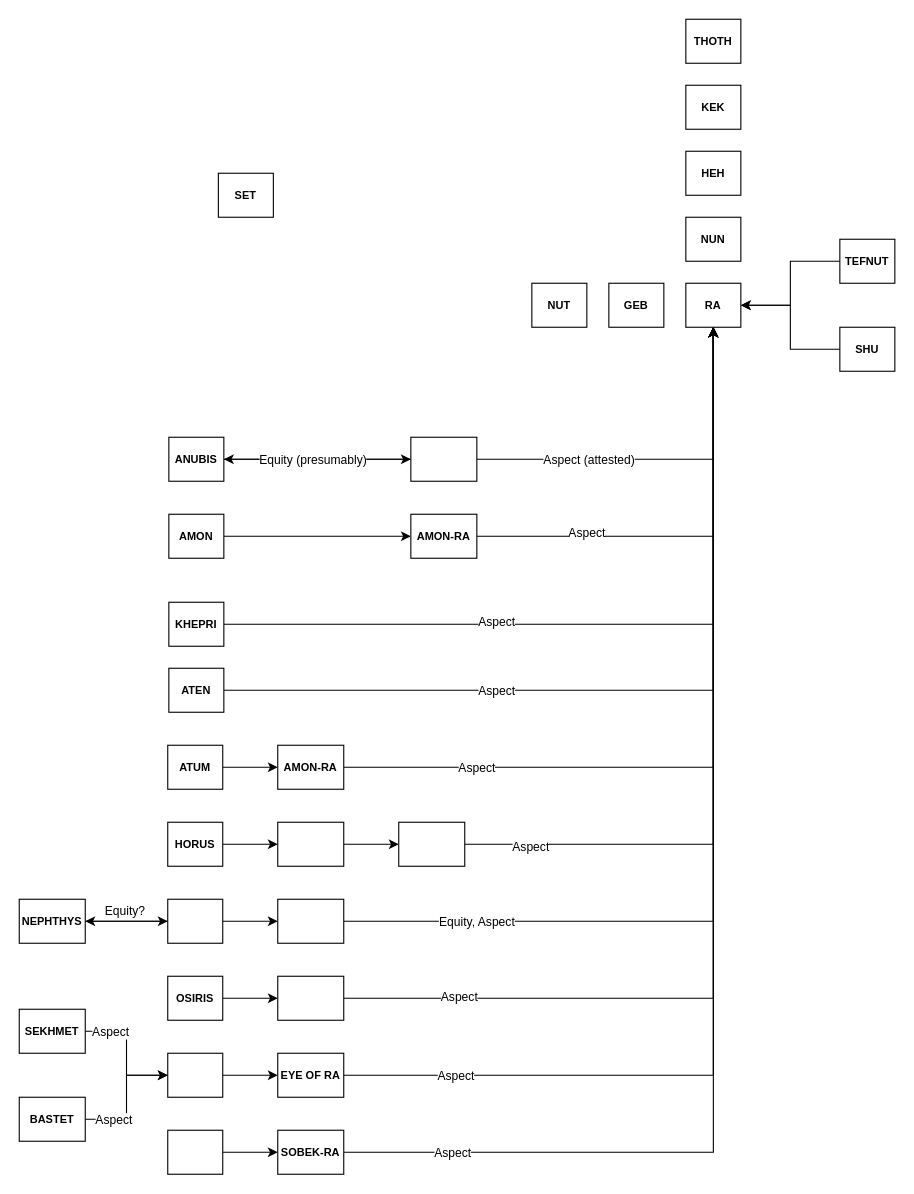
Image size: 914x1194. Some labels were removed from this diagram. Each missing label, with the centre of its shape:
"ASER-RA" belongs at point (310, 997).
"HATHOR" belongs at point (195, 1074).
"HERU-UR" belongs at point (310, 843).
"ISIS" belongs at point (195, 920).
"RA-HORAKTHY" belongs at point (431, 843).
"REN RA" belongs at point (310, 920).
"SOBEK" belongs at point (195, 1151).
"WEPWAWET" belongs at point (443, 458).
